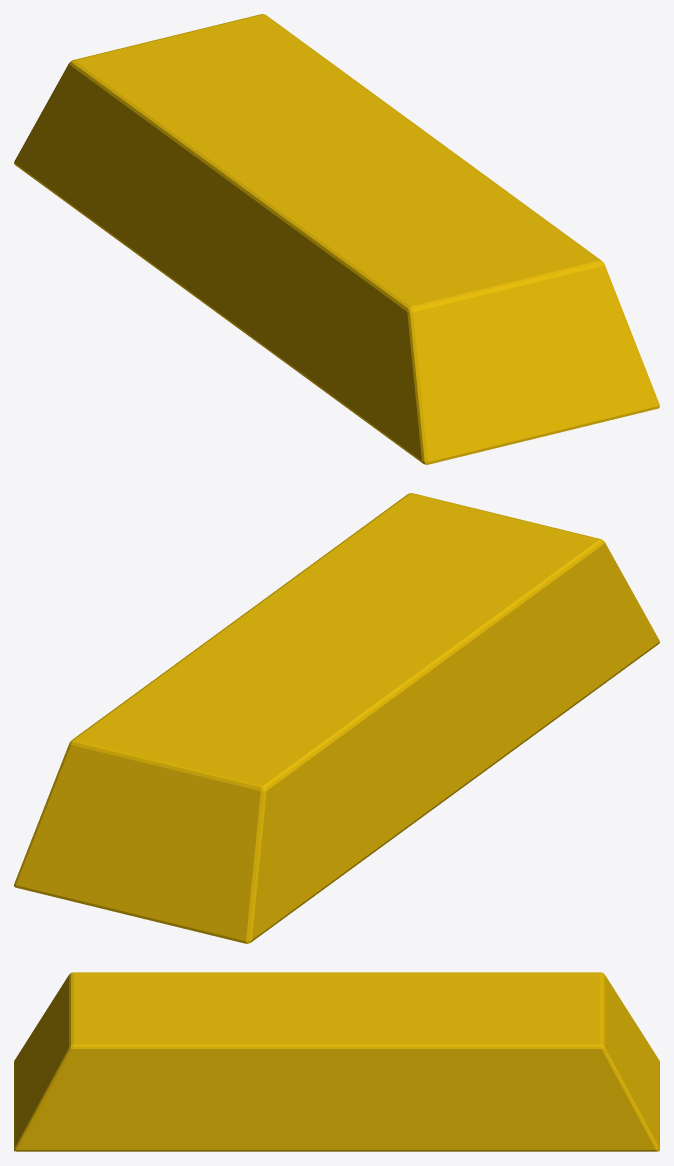
Rendered from golden.fbx.
3 renders of one model, top to bottom at view 1: azimuth 30°, elevation 25°; view 2: azimuth 150°, elevation 25°; view 3: azimuth 270°, elevation 25°, orthographic. The views are drawn at different scales.
Visible parts, largest first — view 1: Cube; view 2: Cube; view 3: Cube.
Boxes of the visible parts, bbox=[...] form: Cube: bbox=[14, 14, 659, 464]; Cube: bbox=[14, 493, 659, 943]; Cube: bbox=[14, 972, 659, 1151].
Bounding box in the file's own units: 199 × 101 × 599.
